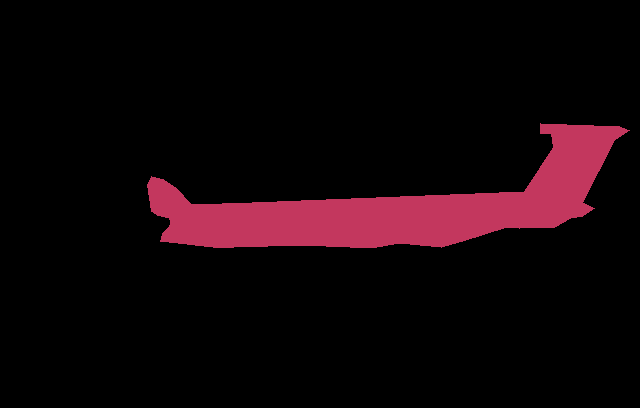Airplane: (147, 123, 630, 248)
